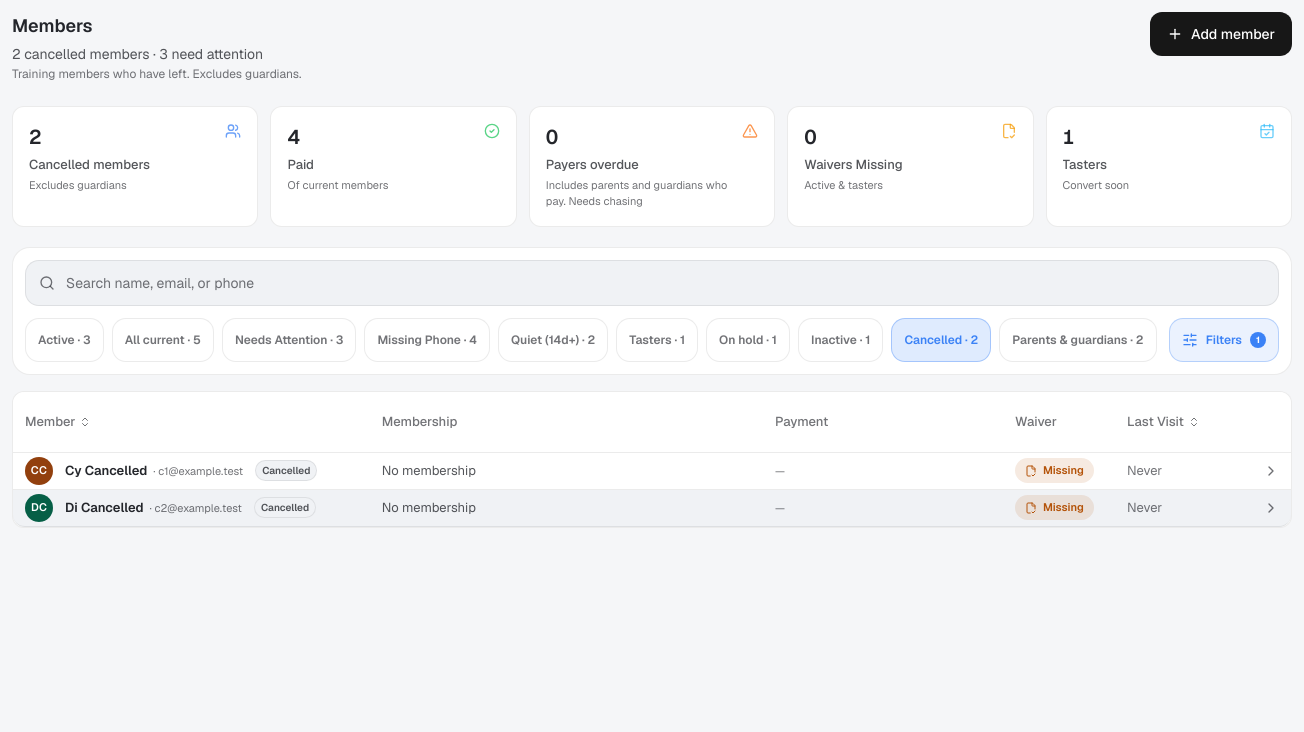
Test: MembersList — Active drill-through and population headline (T1) › the header and tile follow the other population chips: Cancelled reads 2, guardians 2
Click the button "Parents & guardians · 2": (1078,340) [999,318,1157,362]
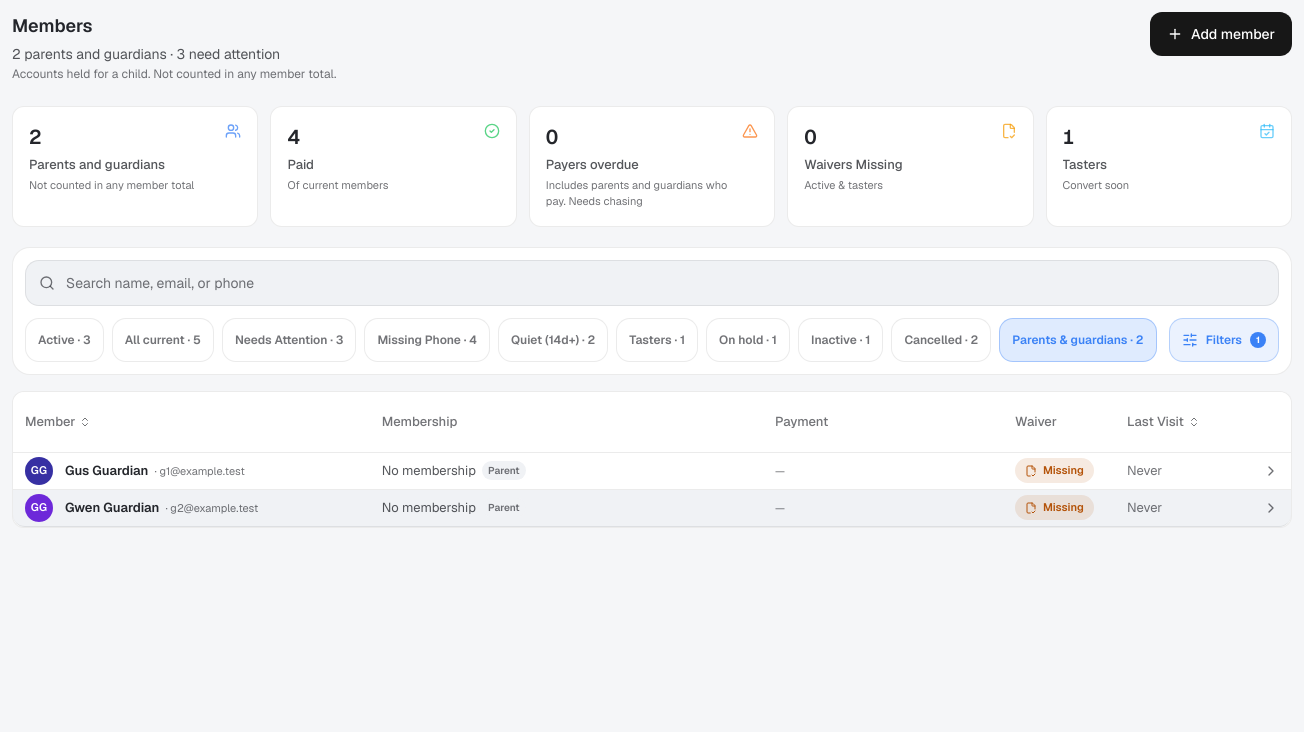
Result: the text with test id "members-headline" reads "2 parents and guardians" at [12,45,167,63]
Result: the text "Not counted in any member total" is shown at [29,176,194,193]
